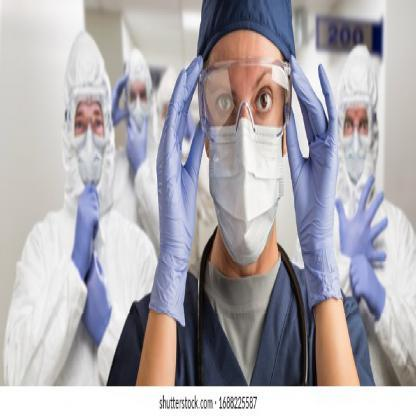Gloves: (146, 53, 208, 330), (282, 54, 344, 314), (334, 176, 386, 264), (81, 252, 113, 350), (70, 180, 100, 283), (350, 254, 386, 322), (126, 119, 150, 178), (111, 74, 130, 126)
